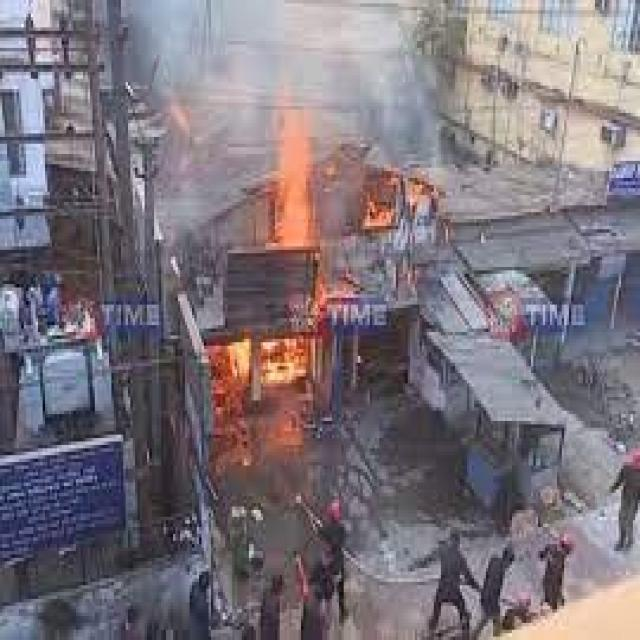fire: (270, 96, 313, 250), (214, 339, 310, 404), (360, 178, 396, 229)
smoke: (147, 3, 450, 182)
